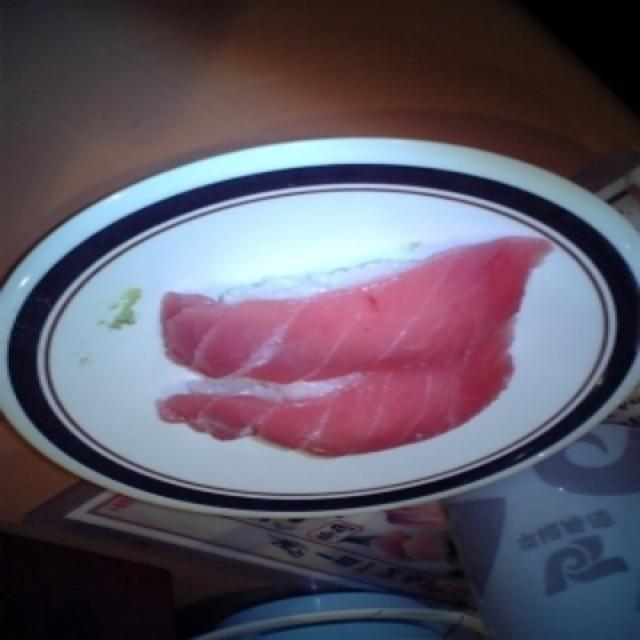Sushi: (138, 227, 554, 462)
